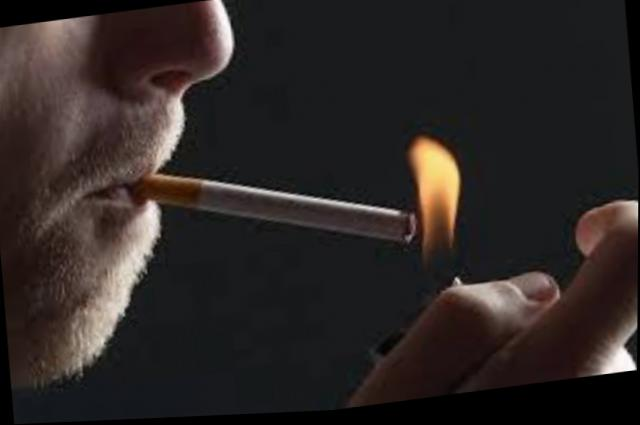fire: (376, 124, 473, 287)
